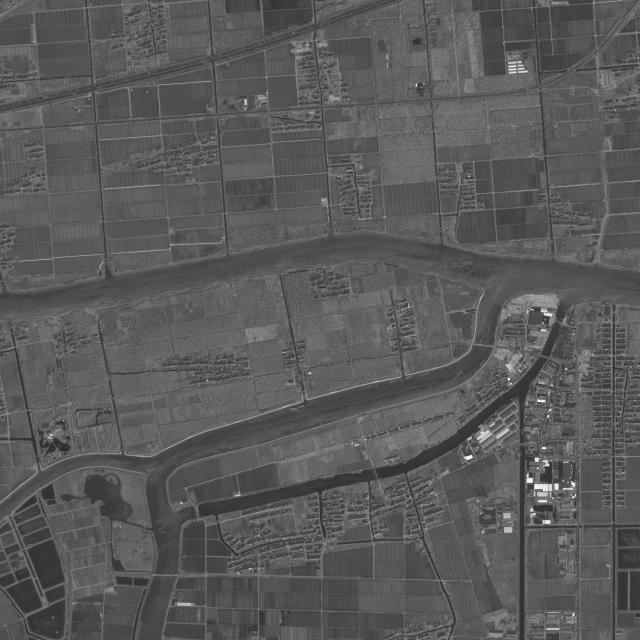ship: (454, 370, 463, 378), (476, 422, 484, 430), (483, 417, 492, 424), (528, 379, 534, 387), (488, 413, 497, 418), (499, 404, 508, 409), (80, 289, 91, 293), (494, 408, 501, 414), (115, 288, 124, 292), (511, 397, 520, 401), (464, 261, 474, 264), (297, 405, 305, 408), (289, 408, 297, 410)
